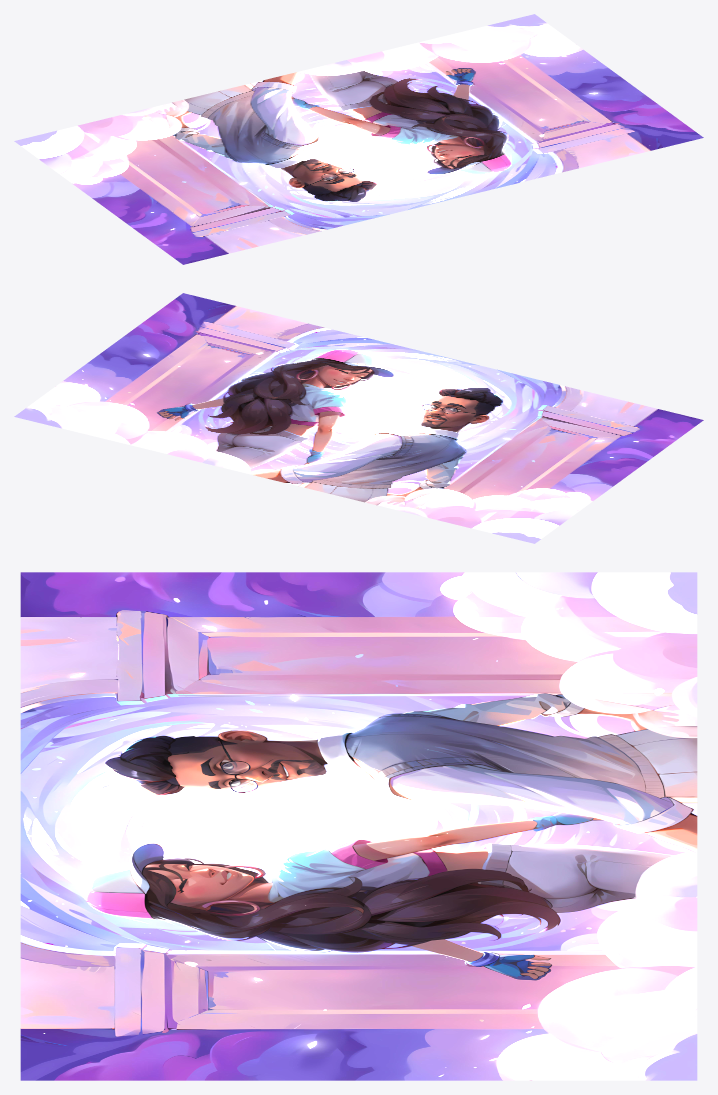
The model's file is cs_farewell.glb.
3 views of the same model, one above another, from view 1: azimuth 30°, elevation 25°; view 2: azimuth 150°, elevation 25°; view 3: azimuth 270°, elevation 25° (orthographic). The views are drawn at different scales.
Parts seen in each view (by area): view 1: 01; view 2: 01; view 3: 01.
Boxes of the visible parts, left/top/right/bottom form: 01: left=14, top=14, right=703, bottom=264; 01: left=14, top=293, right=703, bottom=543; 01: left=20, top=572, right=697, bottom=1080.
Size of the model in its own units: 38.4 by 0 by 21.6.
Materials: 16 (16 with a texture image).
